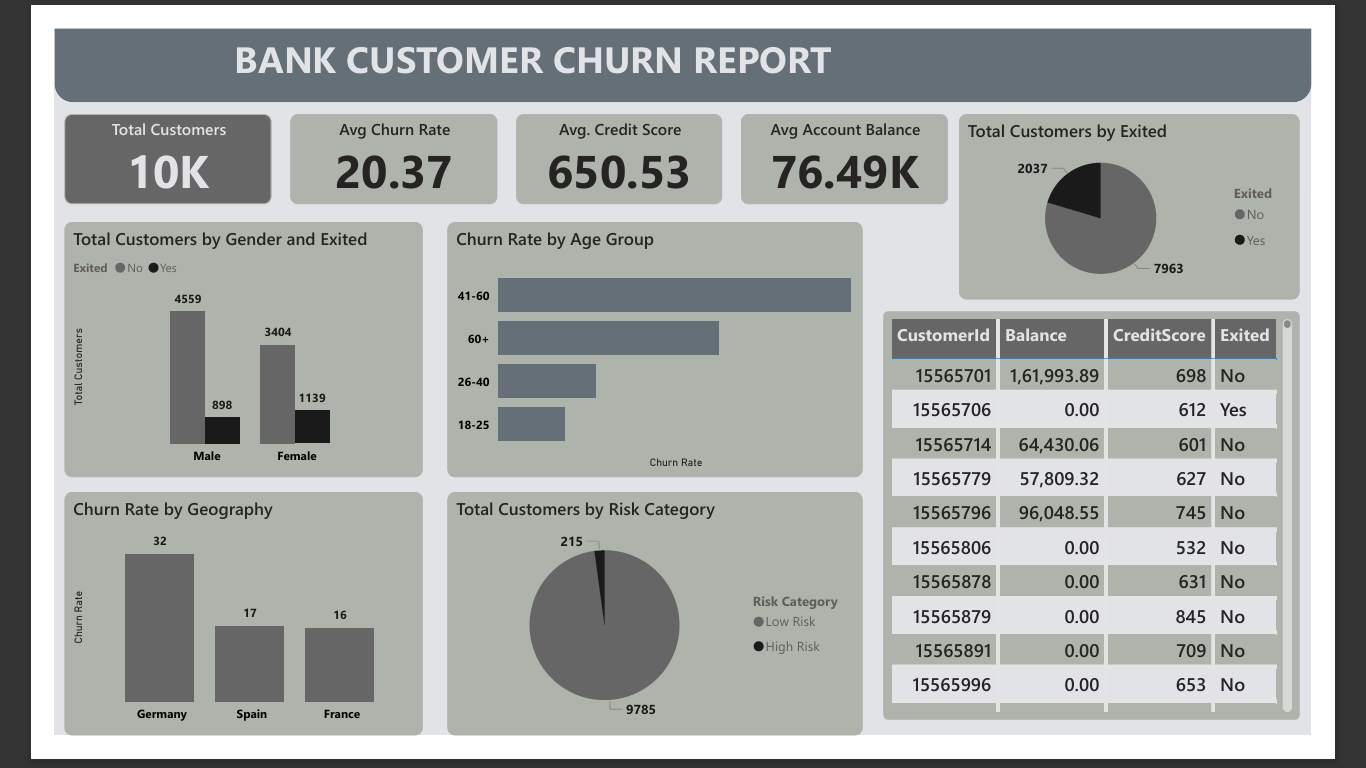

This screenshot's page, from the dashboard's own definition file:
{"tool":"powerbi","page":{"name":"Report","canvas":[1280,720],"ordinal":0},"visuals":[{"type":"shape","box":[0,0,1280.2,74.7],"z":0},{"type":"card","title":"Total Customers","fields":{"Values":["Measures (2).Total Customers"]},"box":[10.1,87.3,233.5,92.4],"z":1000},{"type":"card","title":"Avg Churn Rate","fields":{"Values":["Measures (2).Churn Rate"]},"box":[257,89,233.5,92.4],"z":2000},{"type":"card","title":"Avg. Credit Score","fields":{"Values":["Measures (2).Avg. Credit Score"]},"box":[500.6,87.3,233.5,92.4],"z":3000},{"type":"card","title":"Avg Account Balance","fields":{"Values":["Measures (2).Avg. Account Balance"]},"box":[750.9,89,233.5,92.4],"z":4000},{"type":"barChart","fields":{"Category":["Bank_Churn.Age Group"],"Y":["Measures (2).Churn Rate"]},"box":[351.1,196.5,337.6,260.4],"z":5000},{"type":"clusteredColumnChart","title":"Churned Customers By Gender","fields":{"Category":["Bank_Churn.Gender"],"Y":["Measures (2).Total Customers"],"Series":["Bank_Churn.Exited"]},"box":[10.1,196.5,330.9,260.4],"z":6000},{"type":"clusteredColumnChart","title":"Churned Customers By Geography","fields":{"Category":["Bank_Churn.Geography"],"Y":["CountNonNull(Bank_Churn.Exited)"]},"box":[10.1,472,330.9,248.6],"z":7000},{"type":"pieChart","fields":{"Y":["Measures (2).Total Customers"],"Category":["Bank_Churn.Risk Category"]},"box":[351.1,472,337.6,248.6],"z":8000},{"type":"textbox","box":[177.8,0,645.3,74.7],"z":9000},{"type":"pieChart","title":"Churned Vs Non-Churn Ratio","fields":{"Y":["Measures (2).Total Customers"],"Category":["Bank_Churn.Exited"]},"box":[996.1,87.3,272.1,188.1],"z":10000},{"type":"card","title":"Avg. Credit Score","fields":{"Values":["Measures (2).Average Tenure"]},"box":[750.9,196.5,233.5,92.4],"z":11001},{"type":"tableEx","title":"Customers that likely to Churn","fields":{"Values":["Bank_Churn.CustomerId","Bank_Churn.Surname","Bank_Churn.Balance","Bank_Churn.CreditScore","Bank_Churn.Tenure","Bank_Churn.Exited"]},"box":[700.5,300.7,567.8,419.9],"z":11002}]}

Visuals, with their boxes in screenshot pixels (x1, y1, x2, y2), scaled from the page's 1280x720 canvas onto the 1366x768 screenshot:
shape: (x1=0, y1=0, x2=1365, y2=80)
"Total Customers" card: (x1=11, y1=93, x2=260, y2=192)
"Avg Churn Rate" card: (x1=274, y1=95, x2=523, y2=193)
"Avg. Credit Score" card: (x1=534, y1=93, x2=783, y2=192)
"Avg Account Balance" card: (x1=801, y1=95, x2=1051, y2=193)
barChart - Bank_Churn.Age Group x Measures (2).Churn Rate: (x1=375, y1=210, x2=735, y2=487)
"Churned Customers By Gender" clusteredColumnChart: (x1=11, y1=210, x2=364, y2=487)
"Churned Customers By Geography" clusteredColumnChart: (x1=11, y1=503, x2=364, y2=767)
pieChart - Measures (2).Total Customers x Bank_Churn.Risk Category: (x1=375, y1=503, x2=735, y2=767)
textbox: (x1=190, y1=0, x2=878, y2=80)
"Churned Vs Non-Churn Ratio" pieChart: (x1=1063, y1=93, x2=1353, y2=294)
"Avg. Credit Score" card: (x1=801, y1=210, x2=1051, y2=308)
"Customers that likely to Churn" tableEx: (x1=748, y1=321, x2=1354, y2=767)
